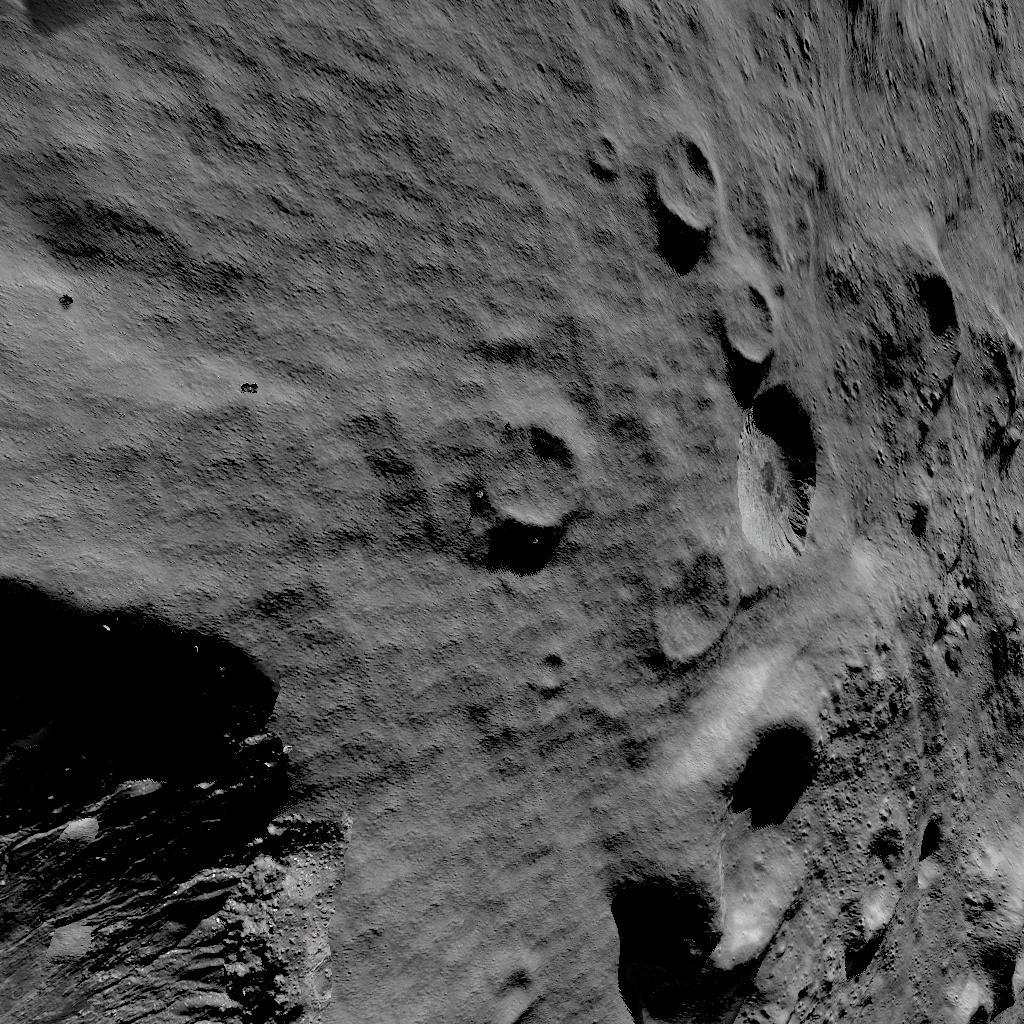Boulders: (0, 560, 348, 1024)
Crater: (586, 654, 830, 1024), (654, 132, 830, 560), (851, 765, 1024, 1024), (866, 268, 1024, 486), (451, 415, 573, 540), (731, 0, 1003, 53), (954, 112, 1020, 258)
Plan surface: (0, 0, 640, 398), (365, 562, 573, 1024), (0, 410, 435, 543)
